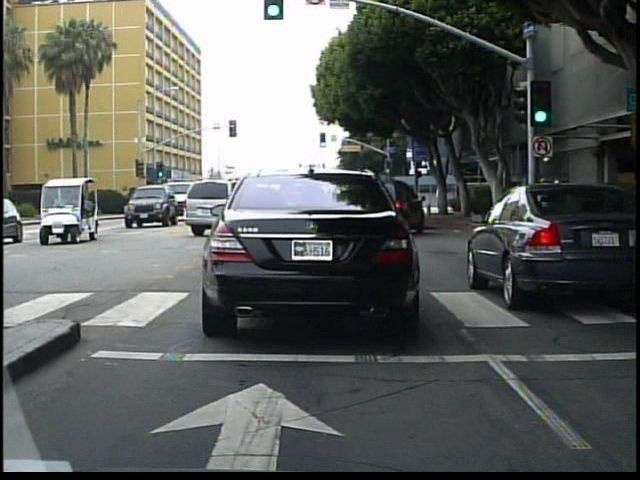person: (518, 174, 538, 228), (435, 185, 449, 214)
